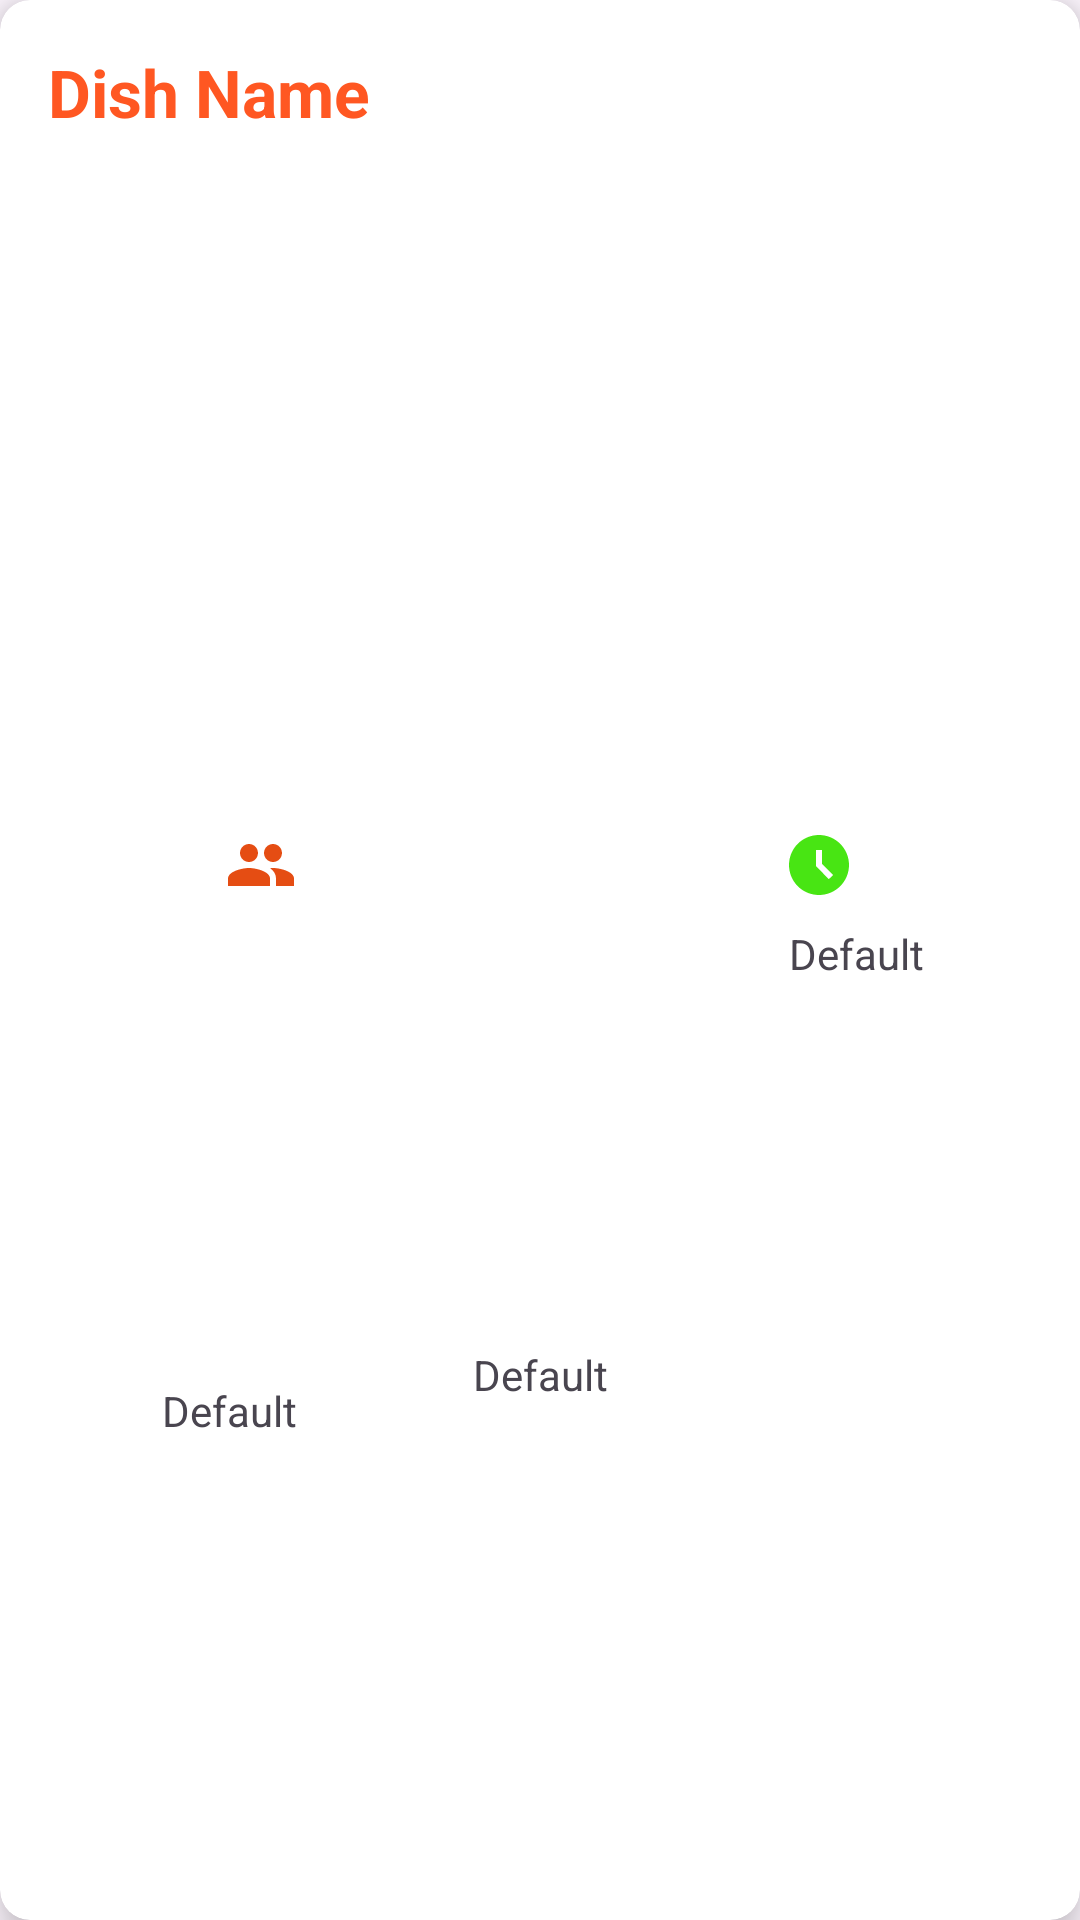

Point at icon controls on the screen. Image size 1080×1920, points as (x=x, y=y).
duration: (x=819, y=865)
servings: (x=261, y=865)
